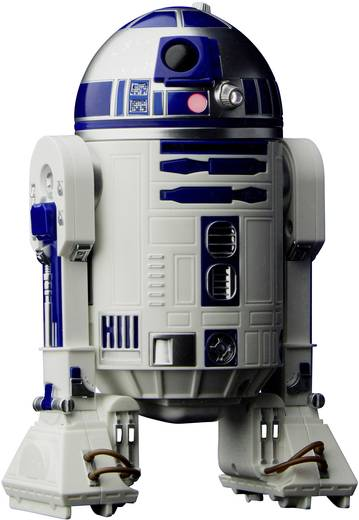r2d2: (1, 3, 358, 517)
